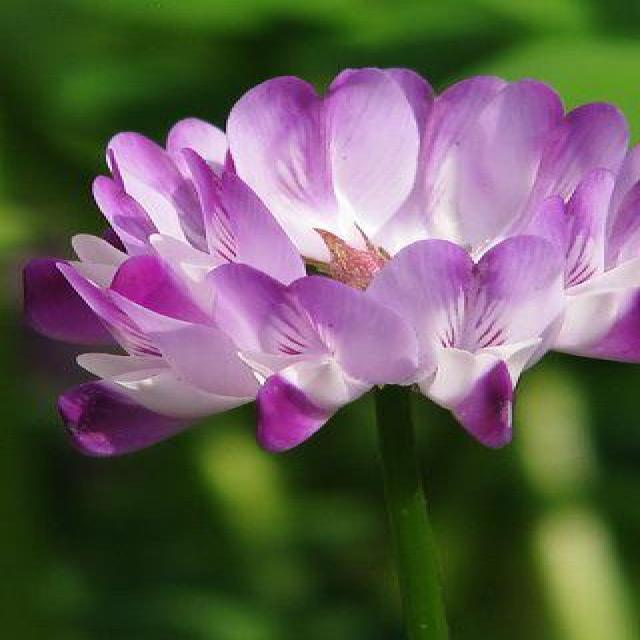organic waste: (35, 63, 631, 417)
